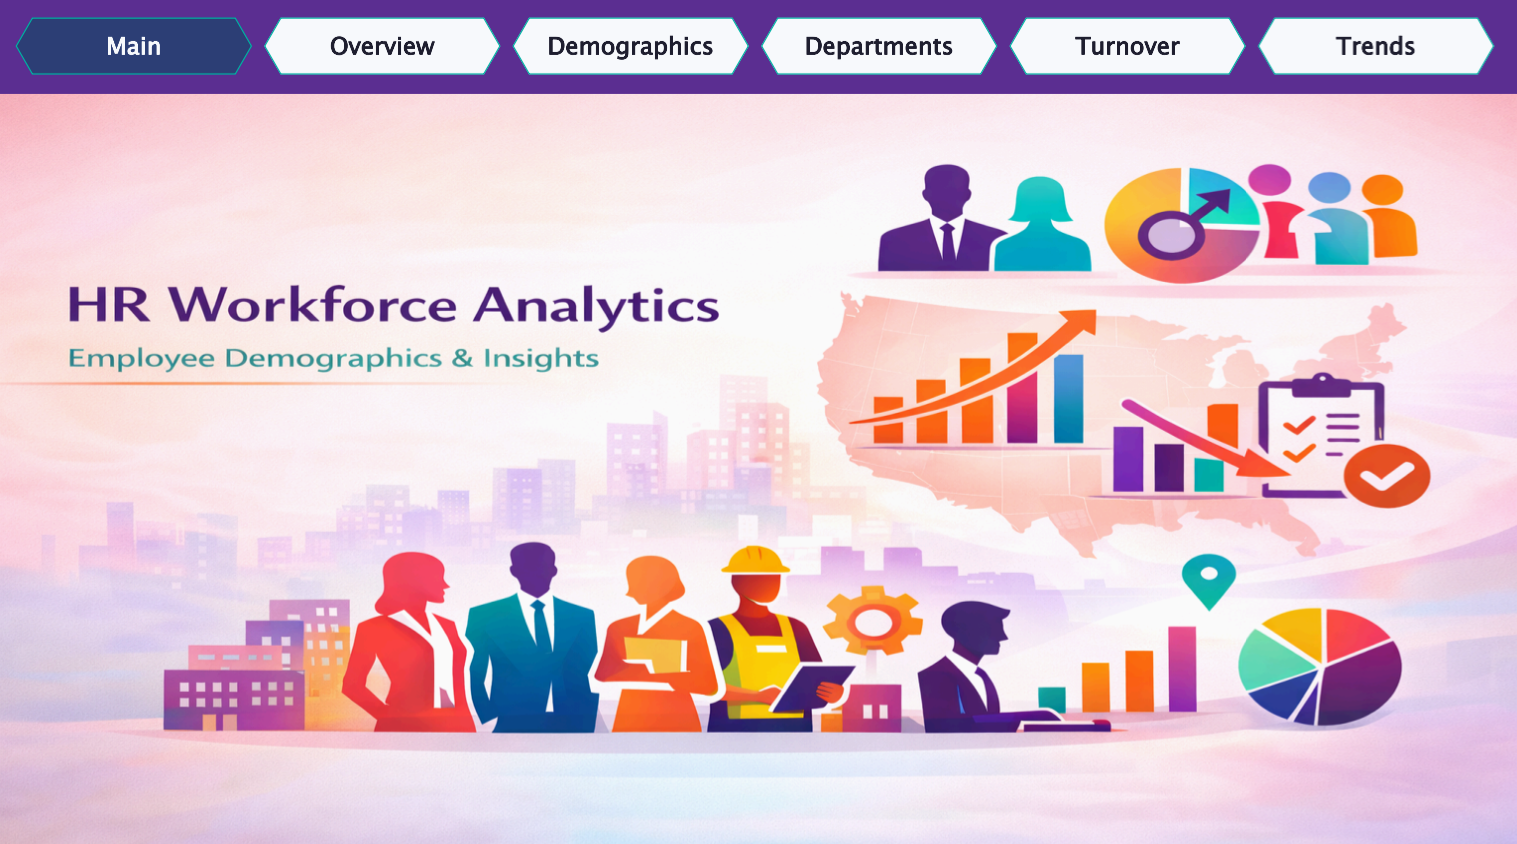

Layout of this report page (visuals, bound fields, positions):
{"tool":"powerbi","page":{"name":"Main","canvas":[1280,720],"ordinal":0},"visuals":[{"type":"shape","box":[0,0,1280,80],"z":0,"group":"g2"},{"type":"image","box":[0,80,1280,640],"z":0},{"type":"group","id":"g1","title":"Group 1","box":[0,0,1280,80],"z":1000},{"type":"pageNavigator","box":[16,16,1248,48],"z":1000,"group":"g2"},{"type":"group","id":"g2","title":"Group 2","box":[0,0,1280,80],"z":1001,"group":"g1"}]}

Visuals, with their boxes in screenshot pixels (x1, y1, x2, y2), scaled from the page's 1280x720 canvas onto the 1517x844 screenshot:
shape: x1=0 y1=0 x2=1516 y2=94
image: x1=0 y1=94 x2=1516 y2=843
"Group 1" group: x1=0 y1=0 x2=1516 y2=94
pageNavigator: x1=19 y1=19 x2=1498 y2=75
"Group 2" group: x1=0 y1=0 x2=1516 y2=94
